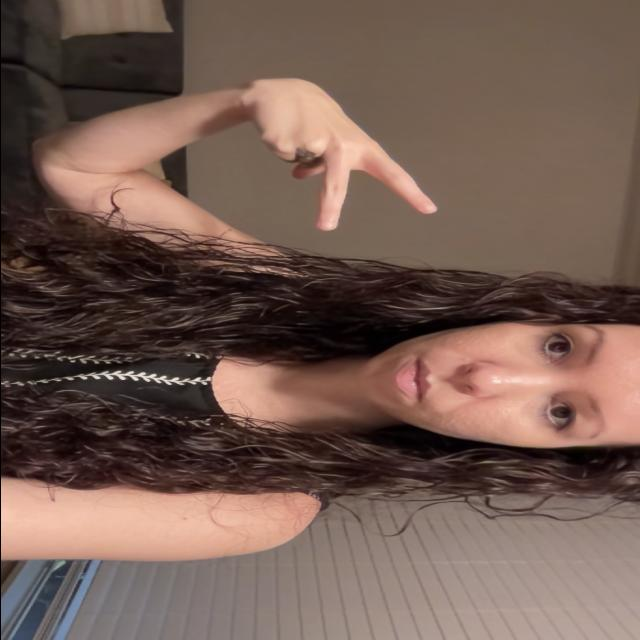Scissors: (227, 73, 441, 234)
